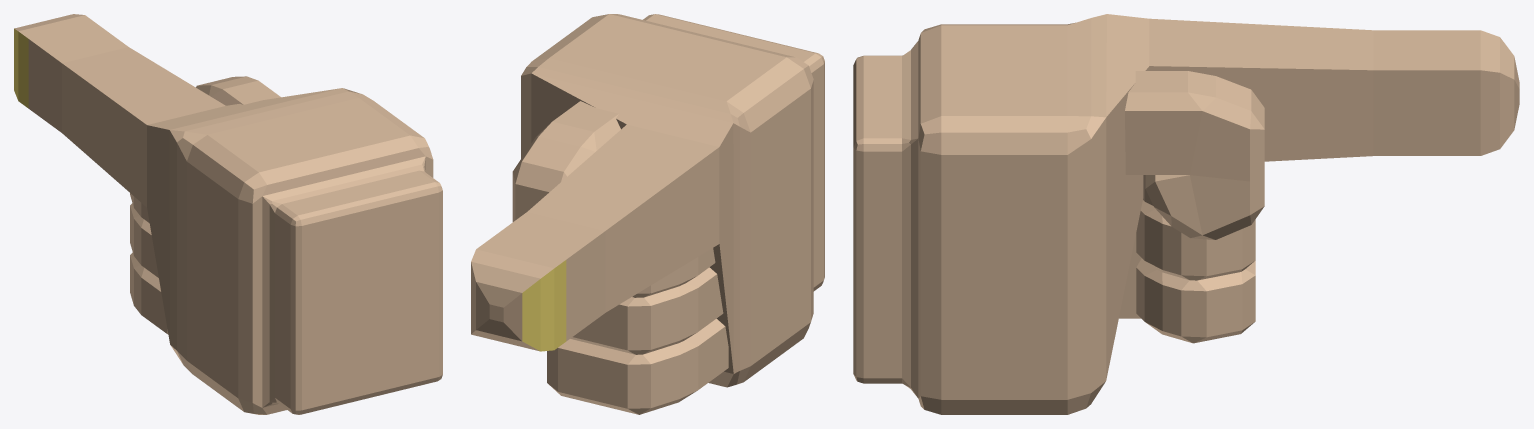
File: Hand.fbx
3 renders of one model, left to right at view 1: azimuth 30°, elevation 25°; view 2: azimuth 150°, elevation 25°; view 3: azimuth 270°, elevation 25°, orthographic. The views are drawn at different scales.
Visible parts, largest first — view 1: Hand, Finger3, Thumb, Finger2; view 2: Hand, Finger3, Finger2, Thumb, Finger1; view 3: Hand, Thumb, Finger3, Finger2.
Part boxes in pixels (x1,y1,x2,y2): Hand: (14,14,442,414); Finger3: (130,252,168,334); Thumb: (196,76,280,105); Finger2: (130,203,158,277); Hand: (471,14,824,387); Finger3: (547,318,728,414); Finger2: (570,267,723,354); Thumb: (512,101,620,221); Finger1: (632,248,715,297); Hand: (853,14,1519,414); Thumb: (1125,71,1264,239); Finger3: (1119,251,1255,343); Finger2: (1131,200,1255,280).
Bounding box in the file's own units: 49.81 × 57.93 × 117.
